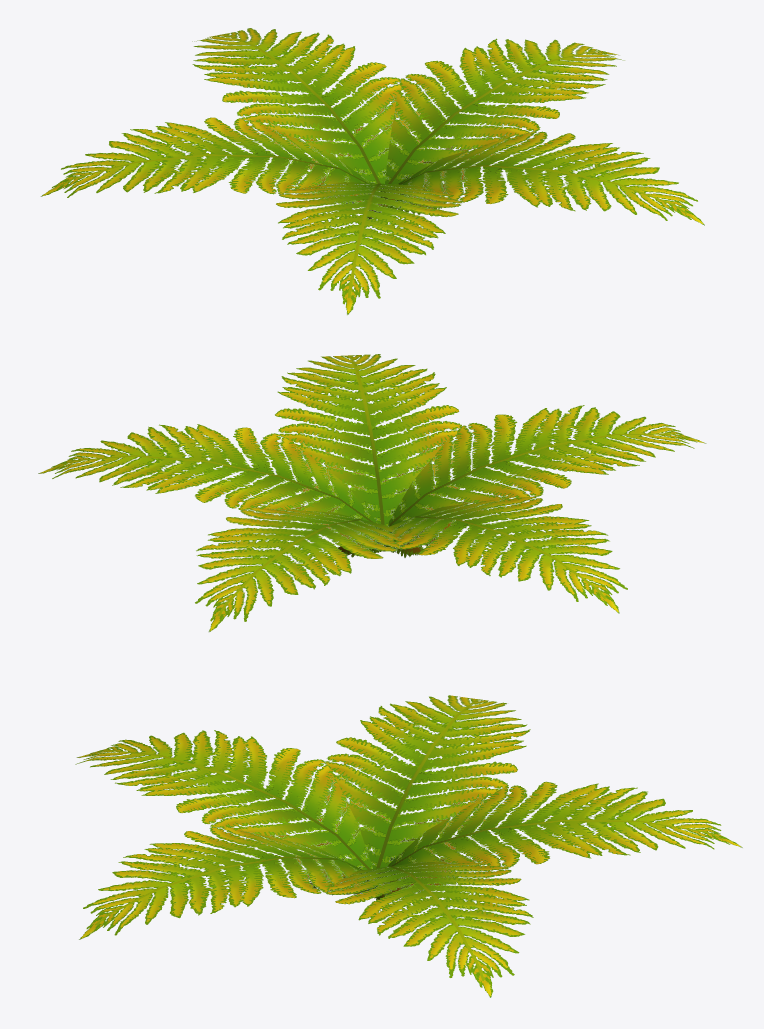
The model's file is Shida.fbx.
The picture shows the model from 3 angles, top to bottom: view 1: azimuth 30°, elevation 25°; view 2: azimuth 150°, elevation 25°; view 3: azimuth 270°, elevation 25°; orthographic projection. The views are drawn at different scales.
Parts seen in each view (by area): view 1: Shida; view 2: Shida; view 3: Shida.
Part boxes in pixels (bbox=[...]): Shida: bbox=[40, 28, 704, 315]; Shida: bbox=[38, 354, 706, 632]; Shida: bbox=[75, 695, 742, 997].
Size of the model in its own units: 596 by 65.73 by 567.
